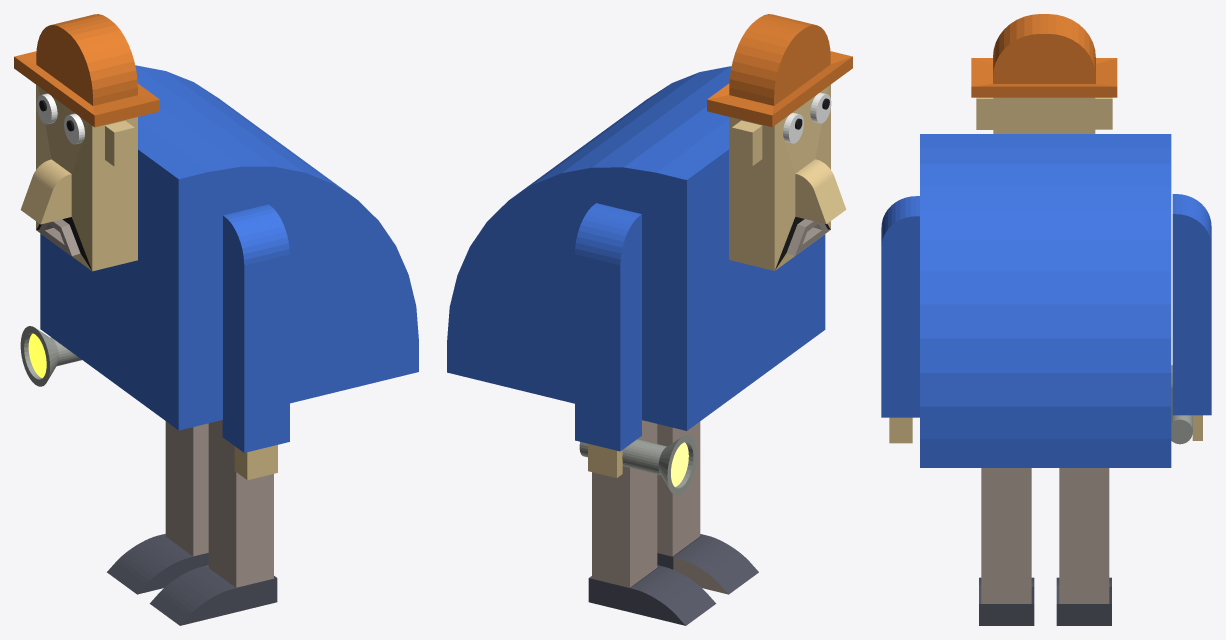
Rendered from robot_model_web.glb.
The picture shows the model from 3 angles, left to right: view 1: azimuth 30°, elevation 25°; view 2: azimuth 150°, elevation 25°; view 3: azimuth 270°, elevation 25°; orthographic projection. The views are drawn at different scales.
Parts seen in each view (by area): view 1: Cube, Cube.001, Cube.002, Cube.003, Cube.005, Cube.011; view 2: Cube, Cube.001, Cube.004, Cube.005, Cube.003, Cube.011; view 3: Cube, Cube.001, Cube.002, Cube.004, Cube.003, Cube.005, Cube.011.
Boxes of the visible parts, x1,y1,x2,y2 form: Cube: (40,65,418,430); Cube.001: (14,14,159,271); Cube.002: (222,204,289,480); Cube.003: (149,420,277,625); Cube.005: (107,421,208,594); Cube.011: (20,326,81,386); Cube: (447,66,825,430); Cube.001: (707,14,852,270); Cube.004: (575,203,641,477); Cube.005: (588,420,716,625); Cube.003: (657,421,758,594); Cube.011: (579,435,696,495); Cube: (920,134,1171,467); Cube.001: (971,14,1117,133); Cube.002: (881,196,919,443); Cube.004: (1172,194,1211,440); Cube.003: (979,468,1034,625); Cube.005: (1056,468,1111,625); Cube.011: (1171,365,1192,444).
Bounding box in the file's own units: 2.66 × 4.69 × 2.63.
